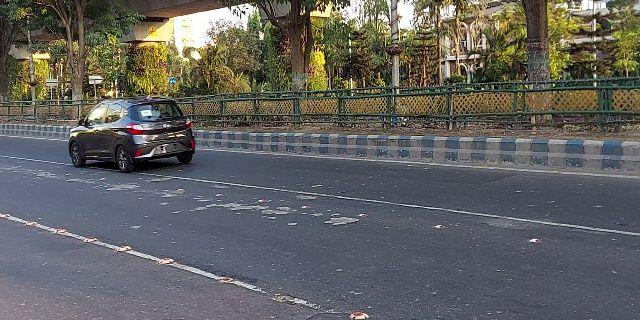Car: (66, 95, 200, 172)
